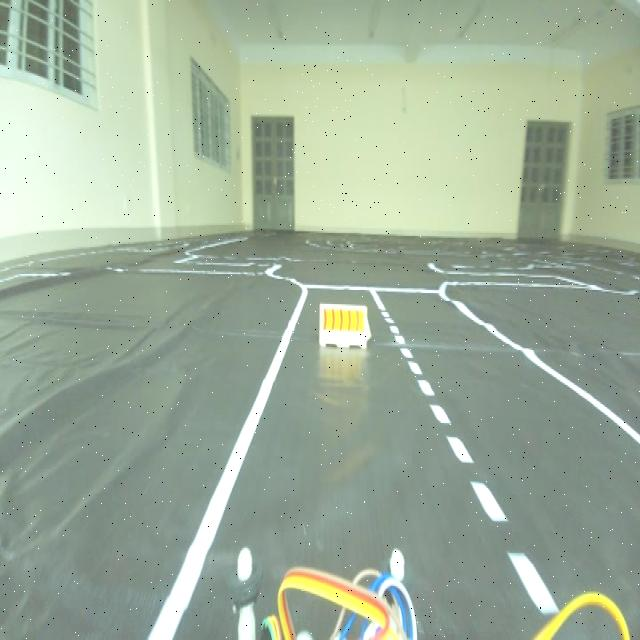roadblock: (315, 291, 374, 362)
